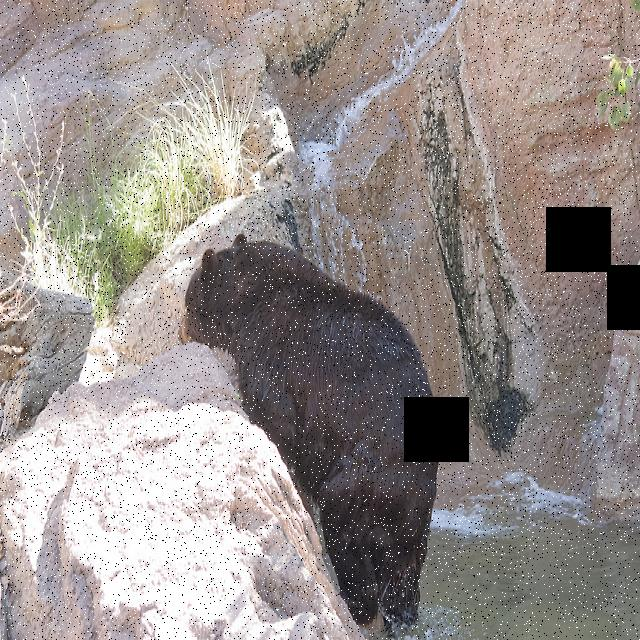Bear: (177, 225, 446, 625)
